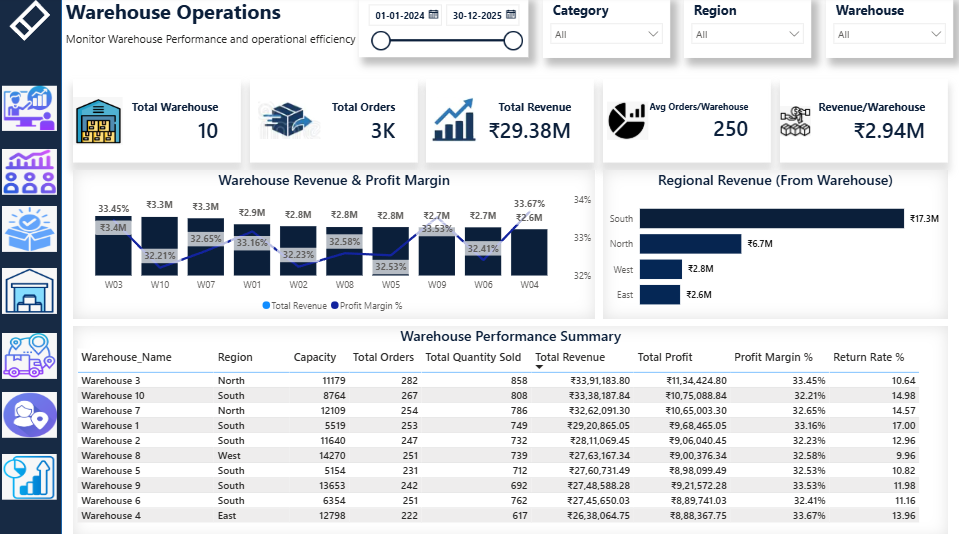

This screenshot's page, from the dashboard's own definition file:
{"tool":"powerbi","page":{"name":"Warehouse Operations","canvas":[1280,720],"ordinal":3},"visuals":[{"type":"shape","box":[0,0,84.9,720],"z":0,"group":"g2"},{"type":"textbox","title":"Warehouse Operations","box":[84.9,0,395.1,43.9],"z":0},{"type":"image","title":"Executive summary","box":[5.9,117.1,73.2,61.5],"z":0,"group":"g1"},{"type":"actionButton","box":[0,0,84.9,62.9],"z":1000,"group":"g2"},{"type":"textbox","title":"SUPPLY CHAIN ANALYTICS","box":[84.9,39.5,395.1,52.7],"z":1000},{"type":"image","title":"Demand & customer","box":[5.9,202,73.2,61.5],"z":1000,"group":"g1"},{"type":"slicer","fields":{"Values":["Calendar Table.Date"]},"box":[480,0,225.4,80.5],"z":2000},{"type":"group","id":"g1","title":"Navigation page buttons","box":[5.9,117.1,73.2,551.7],"z":2000,"group":"g2"},{"type":"image","title":"Inventory","box":[5.9,278.1,73.2,61.5],"z":2000,"group":"g1"},{"type":"slicer","fields":{"Values":["products.Category"]},"box":[723.9,0,169.3,81.2],"z":3000},{"type":"image","title":"Warehouse","box":[5.9,360,73.2,61.5],"z":3000,"group":"g1"},{"type":"slicer","fields":{"Values":["warehouses.Region"]},"box":[911.8,0,169.3,81.2],"z":4000},{"type":"image","title":"Regional","box":[5.9,525.4,73.2,61.5],"z":4000,"group":"g1"},{"type":"slicer","fields":{"Values":["orders.Warehouse_ID"]},"box":[1099.7,0,169.3,81.2],"z":5000},{"type":"image","title":"Delivery","box":[5.9,446.4,73.2,61.5],"z":5000,"group":"g1"},{"type":"cardVisual","title":"Total Revenue KPI","fields":{"Data":["Measure Table.Total Warehouse"]},"box":[99.1,108.7,223,111.5],"z":6000},{"type":"image","title":"Scorecard","box":[5.9,607.3,73.2,61.5],"z":6000,"group":"g1"},{"type":"cardVisual","title":"Total Revenue KPI","fields":{"Data":["Measure Table.Total Orders"]},"box":[334.1,108.7,223,111.5],"z":7000},{"type":"cardVisual","title":"Total Revenue KPI","fields":{"Data":["Measure Table.Total Revenue"]},"box":[569.1,108.7,223,111.5],"z":8000},{"type":"cardVisual","title":"Total Revenue KPI","fields":{"Data":["Measure Table.Avg Orders per Warehouse"]},"box":[804.1,108.7,223,111.5],"z":9000},{"type":"cardVisual","title":"Total Revenue KPI","fields":{"Data":["Measure Table.Revenue per Warehouse"]},"box":[1039.1,108.7,223,111.5],"z":10000},{"type":"tableEx","title":"Warehouse Performance Summary","fields":{"Values":["warehouses.Warehouse_Name","warehouses.Region","warehouses.Capacity","Measure Table.Total Orders","Measure Table.Total Quantity Sold","Measure Table.Total Revenue","Measure Table.Total Profit","Measure Table.Profit Margin %","Measure Table.Return Rate %"]},"box":[99.1,437.7,1163,282.2],"z":11000},{"type":"lineStackedColumnComboChart","title":"Warehouse Revenue & Profit Margin","fields":{"Category":["warehouses.Warehouse_ID"],"Y":["Measure Table.Total Revenue"],"Y2":["Measure Table.Profit Margin %"]},"box":[99.1,229.8,693.7,198.2],"z":12000},{"type":"barChart","title":"Regional Revenue (From Warehouse)","fields":{"Y":["Measure Table.Total Revenue"],"Category":["warehouses.Region"]},"box":[803.8,229.8,458.3,198.2],"z":13000},{"type":"image","title":"Total Revenue KPI","box":[573.9,132.8,66.4,63.8],"z":14000},{"type":"image","title":"Total Revenue KPI","box":[345.5,133.5,84,63.3],"z":15000},{"type":"image","title":"Total Revenue KPI","box":[99.6,132.8,66.4,63.8],"z":16000},{"type":"image","title":"Total Revenue KPI","box":[809.3,133.5,55.1,63.3],"z":17000},{"type":"image","title":"Total Revenue KPI","box":[1039.1,133.5,41.3,63.3],"z":18000},{"type":"group","id":"g2","title":"Navigation bar","box":[0,0,84.9,720],"z":19000}]}

Visuals, with their boxes on the page's 1280x720 design canvas (x1, y1, x2, y2). These are canvas units, not pixel positions in the 959x535 screenshot, which may show the page scaled, cropped or inside an application window:
shape: [left=0, top=0, right=85, bottom=720]
"Warehouse Operations" textbox: [left=85, top=0, right=480, bottom=44]
"Executive summary" image: [left=6, top=117, right=79, bottom=179]
actionButton: [left=0, top=0, right=85, bottom=63]
"SUPPLY CHAIN ANALYTICS" textbox: [left=85, top=40, right=480, bottom=92]
"Demand & customer" image: [left=6, top=202, right=79, bottom=264]
slicer - Calendar Table.Date: [left=480, top=0, right=705, bottom=80]
"Navigation page buttons" group: [left=6, top=117, right=79, bottom=669]
"Inventory" image: [left=6, top=278, right=79, bottom=340]
slicer - products.Category: [left=724, top=0, right=893, bottom=81]
"Warehouse" image: [left=6, top=360, right=79, bottom=422]
slicer - warehouses.Region: [left=912, top=0, right=1081, bottom=81]
"Regional" image: [left=6, top=525, right=79, bottom=587]
slicer - orders.Warehouse_ID: [left=1100, top=0, right=1269, bottom=81]
"Delivery" image: [left=6, top=446, right=79, bottom=508]
"Total Revenue KPI" cardVisual: [left=99, top=109, right=322, bottom=220]
"Scorecard" image: [left=6, top=607, right=79, bottom=669]
"Total Revenue KPI" cardVisual: [left=334, top=109, right=557, bottom=220]
"Total Revenue KPI" cardVisual: [left=569, top=109, right=792, bottom=220]
"Total Revenue KPI" cardVisual: [left=804, top=109, right=1027, bottom=220]
"Total Revenue KPI" cardVisual: [left=1039, top=109, right=1262, bottom=220]
"Warehouse Performance Summary" tableEx: [left=99, top=438, right=1262, bottom=720]
"Warehouse Revenue & Profit Margin" lineStackedColumnComboChart: [left=99, top=230, right=793, bottom=428]
"Regional Revenue (From Warehouse)" barChart: [left=804, top=230, right=1262, bottom=428]
"Total Revenue KPI" image: [left=574, top=133, right=640, bottom=197]
"Total Revenue KPI" image: [left=346, top=134, right=430, bottom=197]
"Total Revenue KPI" image: [left=100, top=133, right=166, bottom=197]
"Total Revenue KPI" image: [left=809, top=134, right=864, bottom=197]
"Total Revenue KPI" image: [left=1039, top=134, right=1080, bottom=197]
"Navigation bar" group: [left=0, top=0, right=85, bottom=720]
